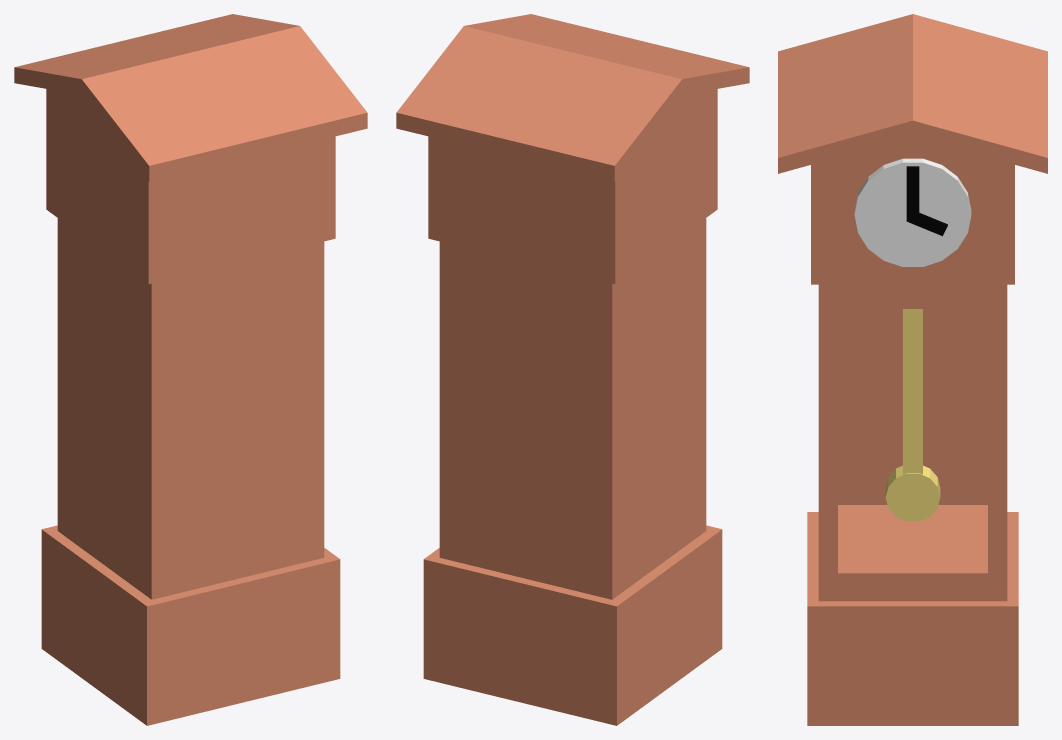
The model's file is grandfatherClock2.fbx.
3 views of the same model, side by side, from view 1: azimuth 30°, elevation 25°; view 2: azimuth 150°, elevation 25°; view 3: azimuth 270°, elevation 25° (orthographic).
Visible parts, largest first — view 1: Grandfather Clock; view 2: Grandfather Clock; view 3: Grandfather Clock.
Part boxes in pixels (x1,y1,x2,y2): Grandfather Clock: (14, 14, 367, 725); Grandfather Clock: (396, 14, 749, 725); Grandfather Clock: (778, 14, 1047, 725).
Size of the model in its own units: 87.79 by 235 by 93.87.
